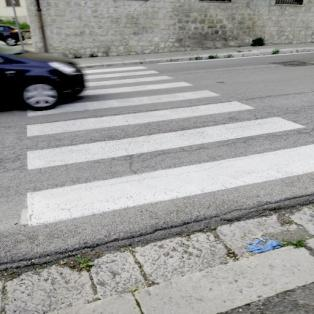Paso de Cebra: (13, 98, 314, 174)
